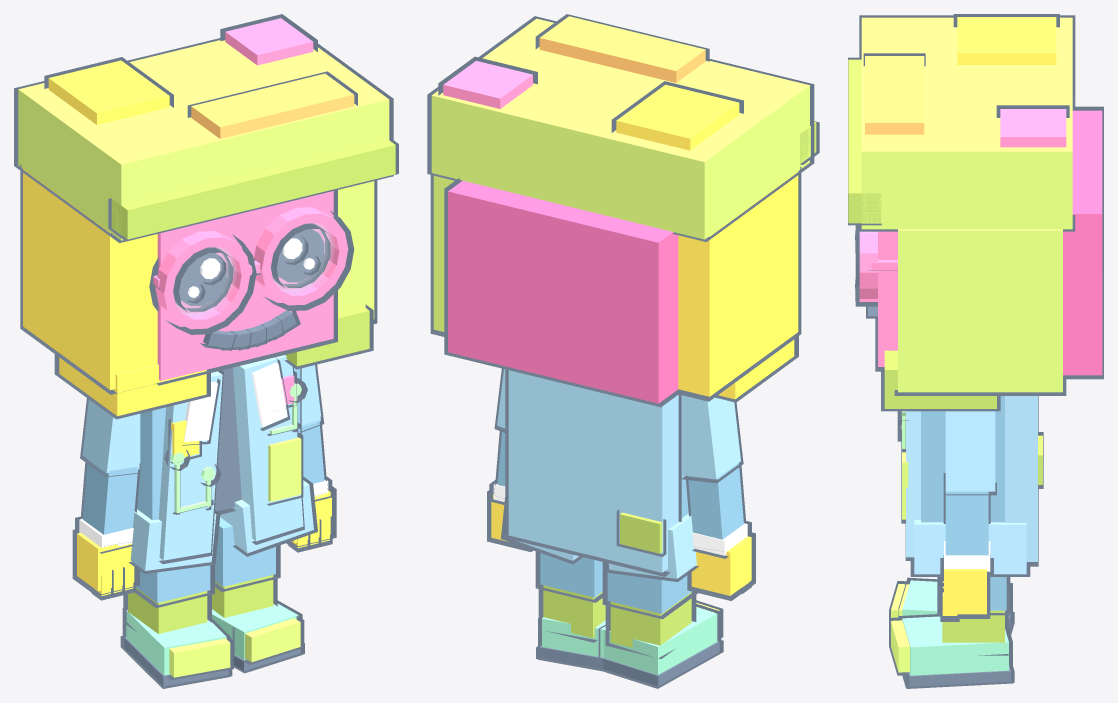
Rendered from robot.glb.
3 views of the same model, side by side, from view 1: azimuth 30°, elevation 25°; view 2: azimuth 150°, elevation 25°; view 3: azimuth 270°, elevation 25° (orthographic). The views are drawn at different scales.
Parts seen in each view (by area): view 1: hat_slab, head_wing_L, head_face, hat_lip, coat_front_L, hat_bar_orange, coat_front_R, rim_R, rim_L, hat_bar_yellow, head_wing_Lb, head_wing_R (+31 smaller); view 2: hat_slab, head_back, coat_back, head_wing_L, hat_bar_orange, hat_bar_yellow, arm_upper_R, shoe_R, hat_bar_mag, arm_fore_R, leg_lower_R, hand_R (+13 smaller); view 3: hat_slab, head_wing_R, head_back, hat_bar_yellow, hat_bar_orange, coat_back, shoe_L, arm_upper_L, coat_side_L, coat_flap_L, arm_fore_L, hat_lip (+14 smaller).
Part boxes in pixels (x1,y1,x2,y2): hat_slab: (14, 38, 393, 242); head_wing_L: (20, 164, 157, 394); head_face: (156, 190, 337, 385); hat_lip: (108, 138, 398, 240); coat_front_L: (233, 355, 304, 544); hat_bar_orange: (187, 71, 357, 138); coat_front_R: (158, 370, 223, 563); rim_R: (149, 231, 256, 334); rim_L: (254, 207, 354, 310); hat_bar_yellow: (44, 57, 173, 124); head_wing_Lb: (54, 354, 210, 419); head_wing_R: (338, 180, 377, 324); hat_slab: (427, 16, 814, 241); head_back: (444, 178, 683, 407); coat_back: (505, 369, 681, 576); head_wing_L: (678, 166, 801, 401); hat_bar_orange: (535, 14, 709, 82); hat_bar_yellow: (611, 81, 743, 150); arm_upper_R: (682, 395, 743, 483); shoe_R: (598, 604, 721, 688); hat_bar_mag: (438, 56, 537, 108); arm_fore_R: (685, 463, 746, 551); leg_lower_R: (605, 591, 696, 658); hand_R: (687, 531, 755, 600); hat_slab: (859, 15, 1075, 231); head_wing_R: (894, 229, 1066, 395); head_back: (1063, 106, 1103, 379); hat_bar_yellow: (953, 14, 1059, 64); hat_bar_orange: (863, 53, 925, 134); coat_back: (1005, 396, 1038, 566); shoe_L: (898, 614, 1012, 688); arm_upper_L: (944, 411, 996, 495); coat_side_L: (921, 396, 1004, 522); coat_flap_L: (910, 520, 1030, 576); arm_fore_L: (943, 473, 990, 566); hat_lip: (848, 57, 881, 225).
Size of the model in its own units: 0.9854 by 1.95 by 0.7756.
